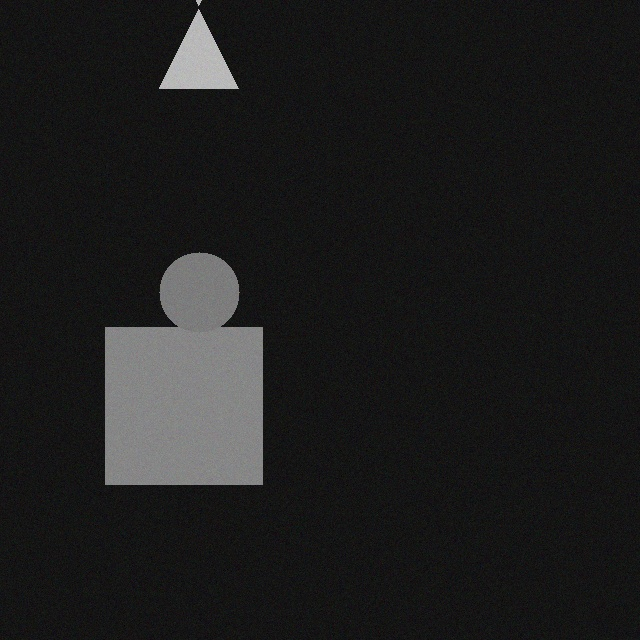circle: (160, 245, 240, 325)
square: (106, 320, 263, 477)
triangle: (160, 2, 239, 81)
